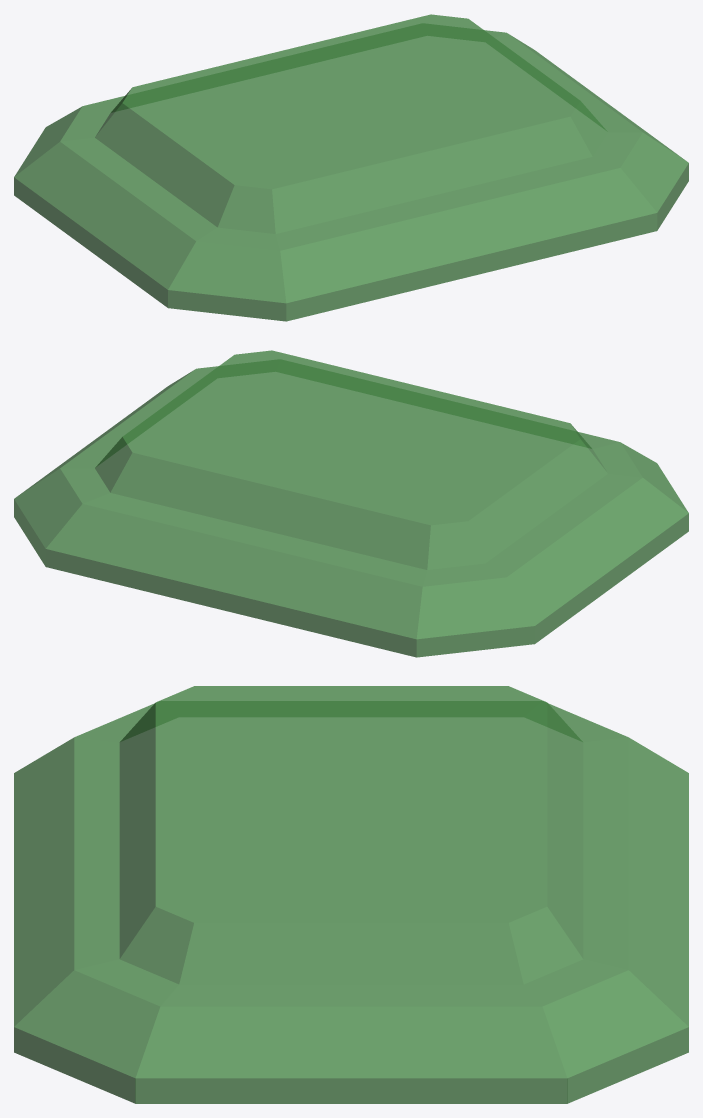
The model's file is cut-emerald-74d180.glb.
3 renders of one model, top to bottom at view 1: azimuth 30°, elevation 25°; view 2: azimuth 150°, elevation 25°; view 3: azimuth 270°, elevation 25°, orthographic. The views are drawn at different scales.
Visible parts, largest first — view 1: gem; view 2: gem; view 3: gem.
Boxes of the visible parts, bbox=[...] form: gem: bbox=[14, 14, 688, 321]; gem: bbox=[14, 350, 688, 657]; gem: bbox=[14, 686, 688, 1103].
Size of the model in its own units: 0.12 by 0.034 by 0.096.
